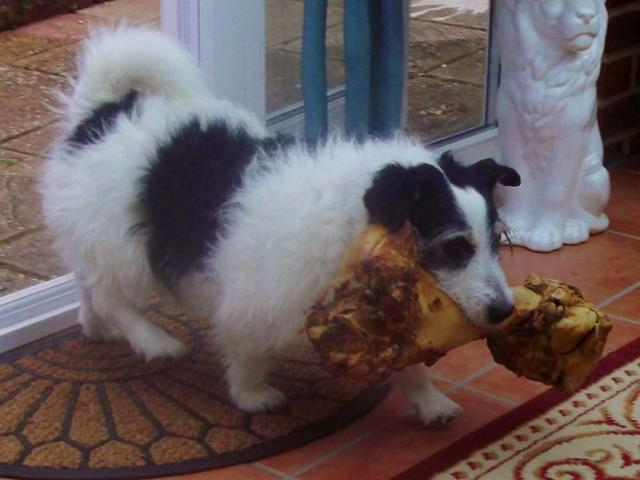Dog: (39, 17, 522, 433)
